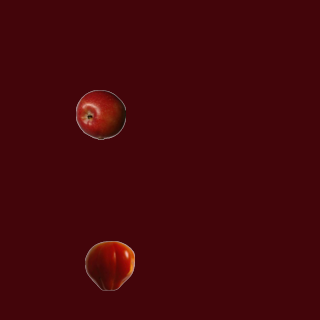Apple Braeburn: (75, 89, 125, 139)
Tomato 1: (84, 240, 134, 290)
